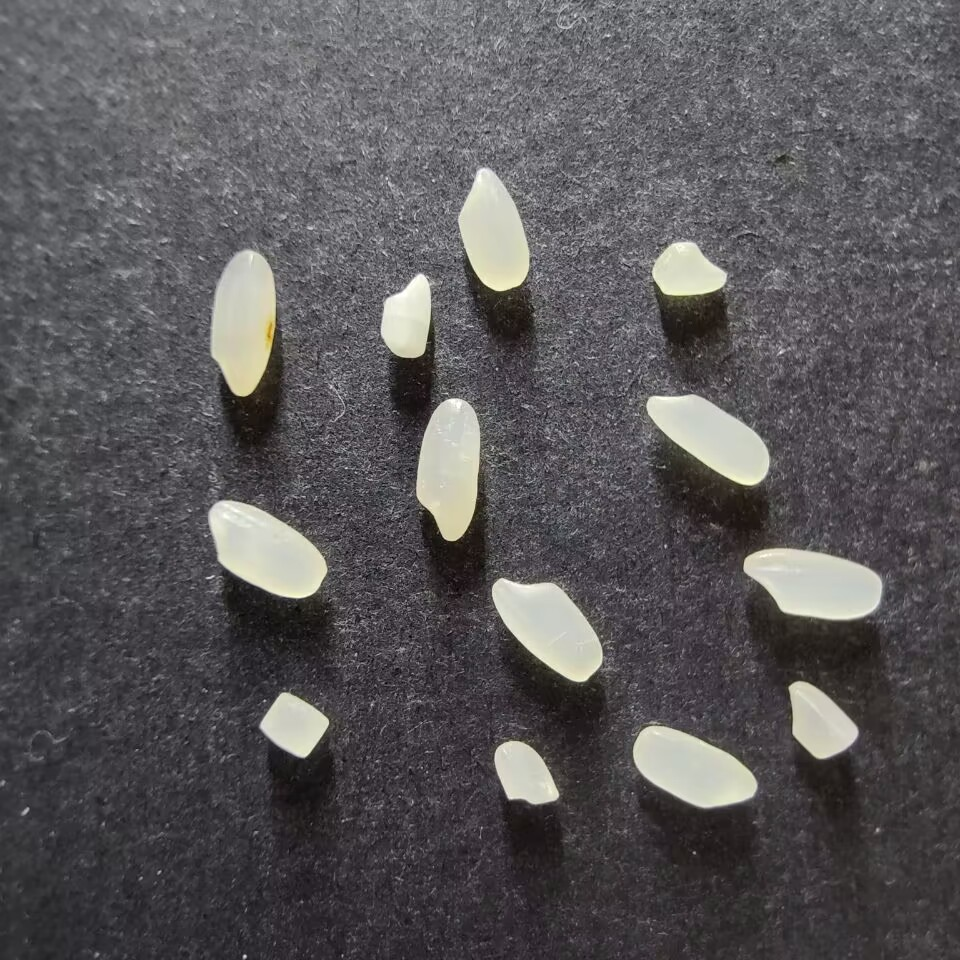broken: (788, 680, 858, 760), (258, 691, 330, 758), (379, 273, 432, 359), (493, 739, 559, 805), (650, 241, 727, 296)
rice: (490, 577, 603, 683), (208, 500, 326, 599), (645, 393, 770, 486), (632, 725, 757, 808), (741, 548, 882, 619), (209, 249, 276, 397), (414, 397, 481, 542), (456, 166, 530, 291)
